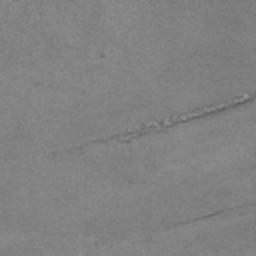Finishing roll printing: (66, 91, 256, 153), (171, 204, 256, 228)
